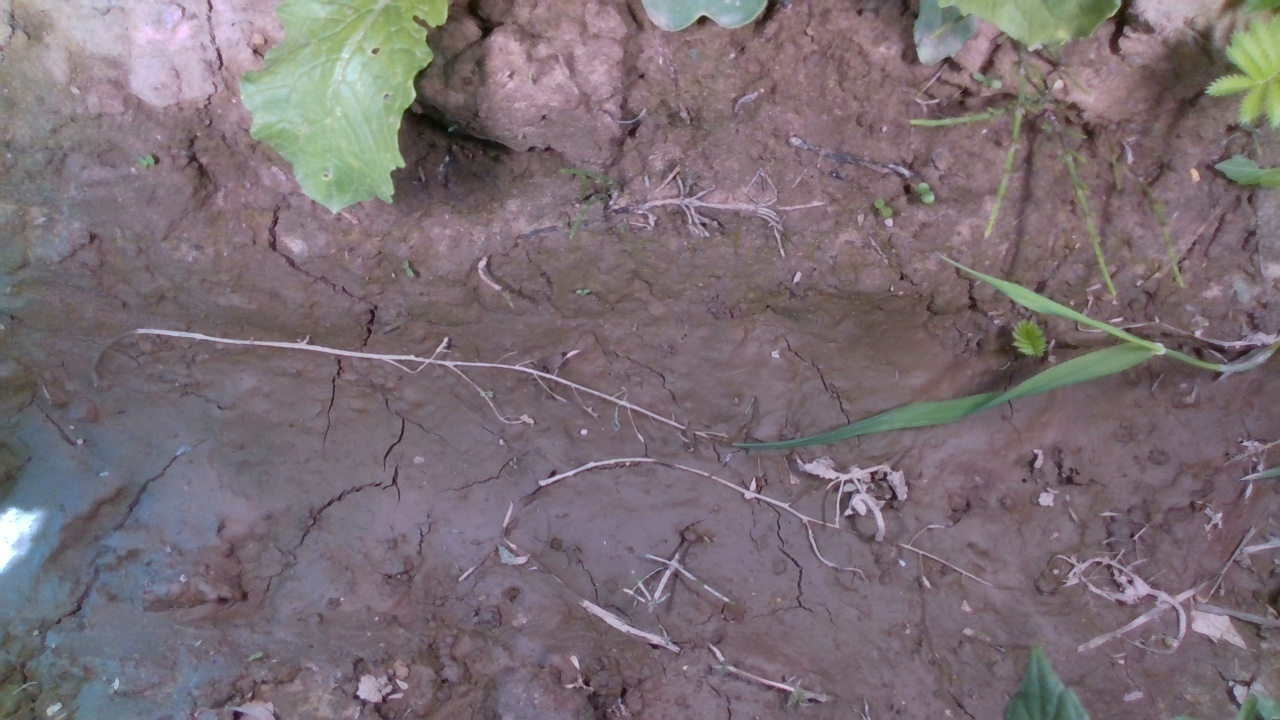weed: (1009, 317, 1047, 358), (971, 70, 1003, 89), (914, 180, 936, 205), (134, 153, 157, 170), (873, 198, 893, 217), (400, 257, 415, 282), (246, 649, 264, 663), (574, 288, 594, 296)
